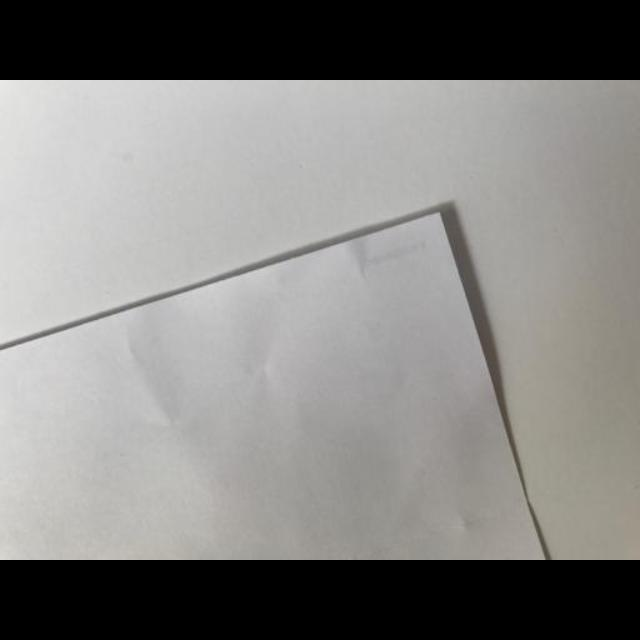papel: (0, 208, 548, 560)
